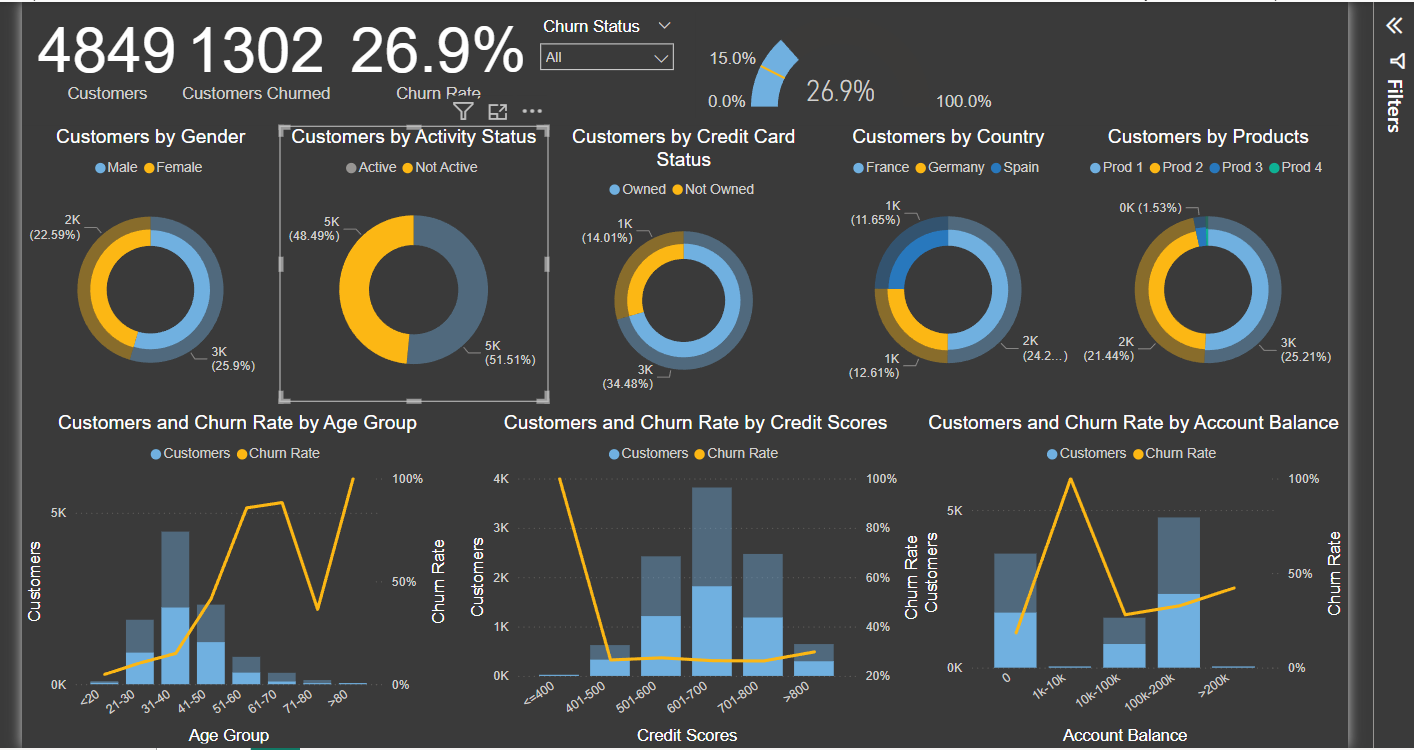

This screenshot's page, from the dashboard's own definition file:
{"tool":"powerbi","page":{"name":"Page 1","canvas":[1280,720],"ordinal":0},"visuals":[{"type":"card","fields":{"Values":["Customer Data.Customers"]},"box":[9.8,0,145.5,101.5],"z":0},{"type":"card","fields":{"Values":["Customer Data.Customers Churned"]},"box":[146.8,0,157.8,101.5],"z":1},{"type":"card","fields":{"Values":["Customer Data.Churn Rate"]},"box":[304.6,0,193.5,101.5],"z":2},{"type":"donutChart","fields":{"Category":["Customer Data.Gender"],"Y":["Customer Data.Customers"]},"box":[0,119.4,248.4,266.2],"z":3},{"type":"donutChart","fields":{"Y":["Customer Data.Customers"],"Category":["Customer Data.Activity Status"]},"box":[248.4,119.4,259.3,266.2],"z":4},{"type":"donutChart","fields":{"Y":["Customer Data.Customers"],"Category":["Customer Data.Credit Card Status"]},"box":[509.1,119.4,259.3,266.2],"z":5},{"type":"donutChart","fields":{"Y":["Customer Data.Customers"],"Category":["Customer Data.Country"]},"box":[768.4,119.4,251.1,266.2],"z":6},{"type":"donutChart","fields":{"Y":["Customer Data.Customers"],"Category":["Customer Data.Products"]},"box":[1019.6,119.4,251.1,266.2],"z":7},{"type":"lineClusteredColumnComboChart","fields":{"Category":["Age Group ID.Age Group"],"Y":["Customer Data.Customers"],"Y2":["Customer Data.Churn Rate"]},"box":[0,395.2,415.8,325.2],"z":8},{"type":"lineClusteredColumnComboChart","fields":{"Y":["Customer Data.Customers"],"Y2":["Customer Data.Churn Rate"],"Category":["Credit Scores ID.Credit Scores"]},"box":[426.8,395.2,446,325.2],"z":9},{"type":"lineClusteredColumnComboChart","fields":{"Y":["Customer Data.Customers"],"Y2":["Customer Data.Churn Rate"],"Category":["Acct Balance ID.Account Balance"]},"box":[864.5,395.2,415.8,325.2],"z":10},{"type":"slicer","fields":{"Values":["Customer Data.Churn Status"]},"box":[489.9,9.6,149.6,91.9],"z":11},{"type":"gauge","fields":{"Y":["Customer Data.Churn Rate"],"MinValue":["Min(Customer Data.Minimum Churn Rate)"],"MaxValue":["Max(Customer Data.Maximum Churn Rate)"],"TargetValue":["Min(Customer Data.Target Churn Rate)"]},"box":[650.4,9.6,297.8,101.5],"z":12}]}

Visuals, with their boxes on the page's 1280x720 design canvas (x1, y1, x2, y2). These are canvas units, not pixel positions in the 1414x750 screenshot, which may show the page scaled, cropped or inside an application window:
card - Customer Data.Customers: Rect(10, 0, 155, 102)
card - Customer Data.Customers Churned: Rect(147, 0, 305, 102)
card - Customer Data.Churn Rate: Rect(305, 0, 498, 102)
donutChart - Customer Data.Gender x Customer Data.Customers: Rect(0, 119, 248, 386)
donutChart - Customer Data.Customers x Customer Data.Activity Status: Rect(248, 119, 508, 386)
donutChart - Customer Data.Customers x Customer Data.Credit Card Status: Rect(509, 119, 768, 386)
donutChart - Customer Data.Customers x Customer Data.Country: Rect(768, 119, 1020, 386)
donutChart - Customer Data.Customers x Customer Data.Products: Rect(1020, 119, 1271, 386)
lineClusteredColumnComboChart - Age Group ID.Age Group x Customer Data.Customers: Rect(0, 395, 416, 720)
lineClusteredColumnComboChart - Customer Data.Customers x Customer Data.Churn Rate: Rect(427, 395, 873, 720)
lineClusteredColumnComboChart - Customer Data.Customers x Customer Data.Churn Rate: Rect(864, 395, 1280, 720)
slicer - Customer Data.Churn Status: Rect(490, 10, 640, 102)
gauge - Customer Data.Churn Rate x Min(Customer Data.Minimum Churn Rate): Rect(650, 10, 948, 111)
